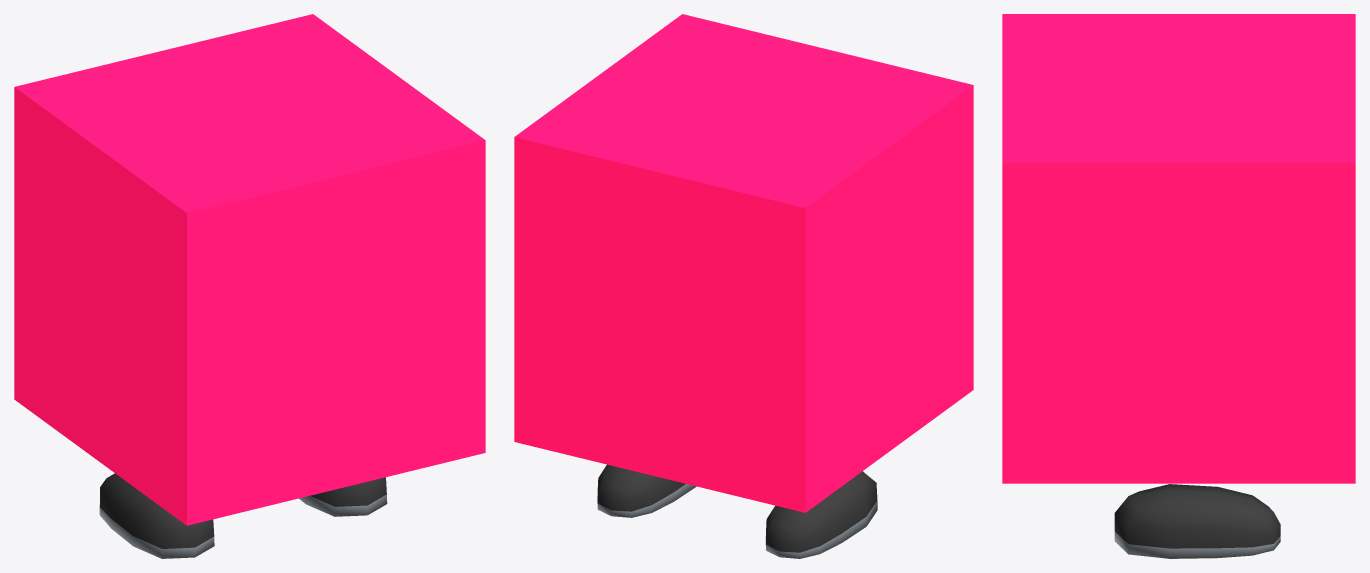
File: Cube_cell-shading_export.fbx
The picture shows the model from 3 angles, left to right: view 1: azimuth 30°, elevation 25°; view 2: azimuth 150°, elevation 25°; view 3: azimuth 270°, elevation 25°; orthographic projection. The views are drawn at different scales.
Parts seen in each view (by area): view 1: Cube_character; view 2: Cube_character; view 3: Cube_character.
Boxes of the visible parts, <box> form: Cube_character: <box>14,14,485,558</box>; Cube_character: <box>514,14,973,558</box>; Cube_character: <box>1002,14,1355,558</box>.
Size of the model in its own units: 200 by 260 by 200.
